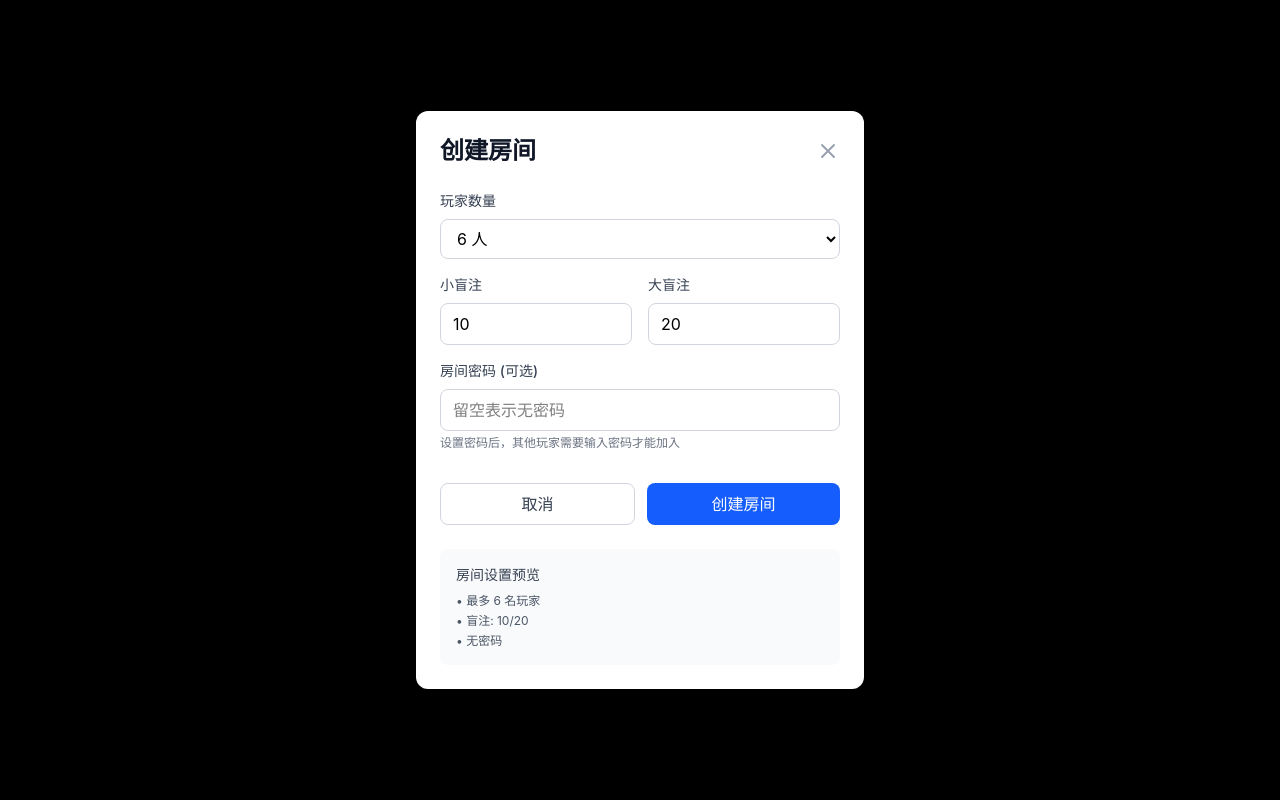
it: CreateRoomModal › Form Interactions › should update player limit when changed
Step 1. Select "4 人" in the dropdown → (640, 239), box [440,219,840,259]
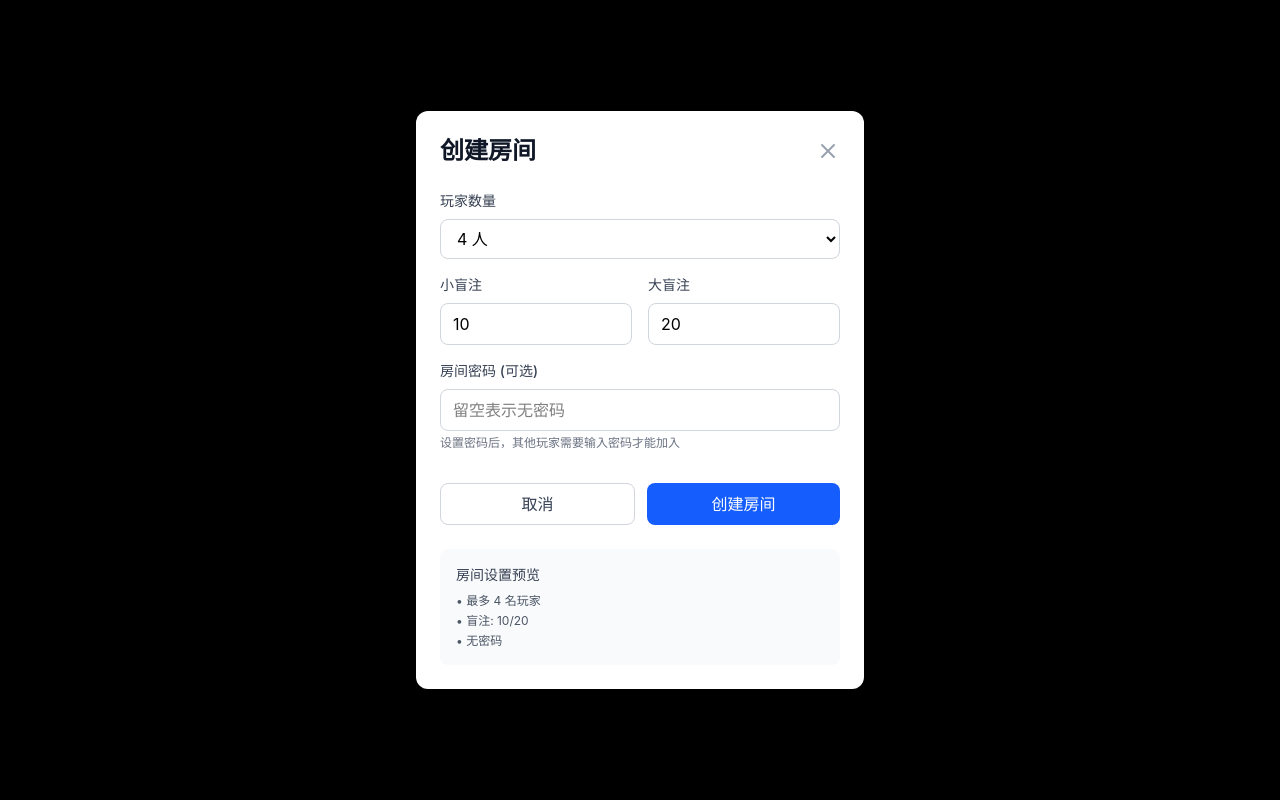
Result: the text "• 最多 4 名玩家" is shown at [456,593,541,608]
